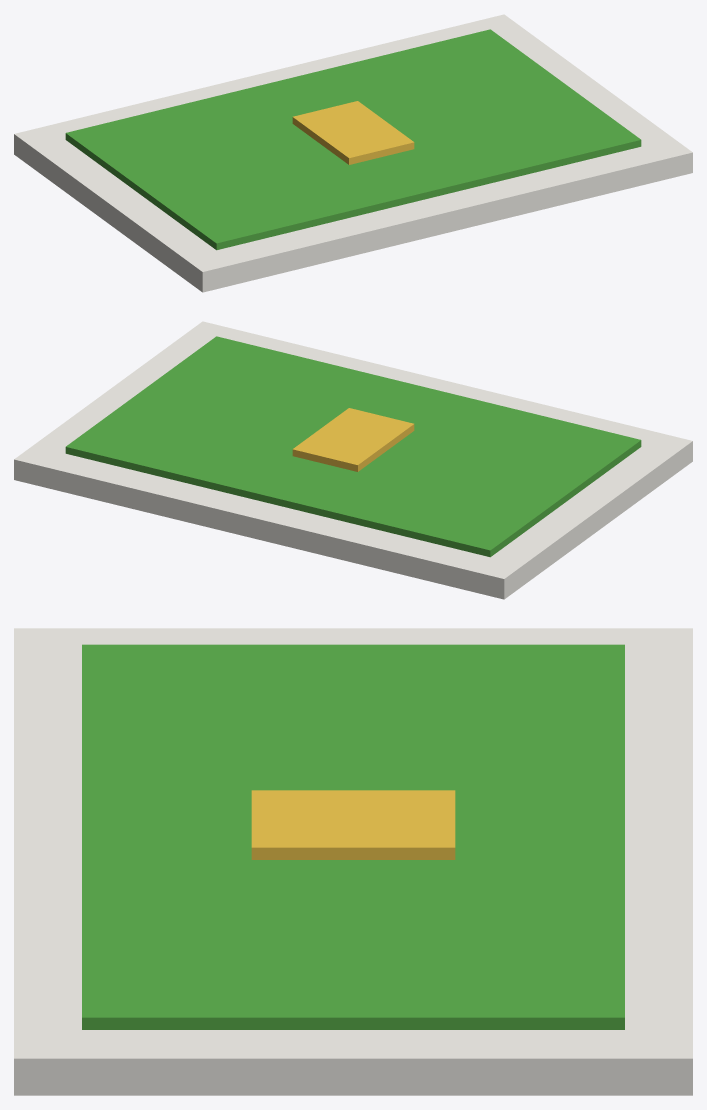
The model's file is mayor_photo.glb.
The picture shows the model from 3 angles, top to bottom: view 1: azimuth 30°, elevation 25°; view 2: azimuth 150°, elevation 25°; view 3: azimuth 270°, elevation 25°; orthographic projection. The views are drawn at different scales.
Visible parts, largest first — view 1: lawn_photo_lawn, frame_photo_white, gnome_photo_gold; view 2: lawn_photo_lawn, frame_photo_white, gnome_photo_gold; view 3: lawn_photo_lawn, frame_photo_white, gnome_photo_gold.
Boxes of the visible parts, x1,y1,x2,y2 form: lawn_photo_lawn: (65, 29, 641, 250); frame_photo_white: (14, 14, 692, 292); gnome_photo_gold: (292, 101, 414, 164); lawn_photo_lawn: (65, 336, 641, 557); frame_photo_white: (14, 321, 692, 599); gnome_photo_gold: (292, 408, 414, 471); lawn_photo_lawn: (82, 644, 624, 1029); frame_photo_white: (14, 628, 692, 1095); gnome_photo_gold: (251, 790, 455, 859).
Bounding box in the file's own units: 0.15 × 0.01 × 0.1.
